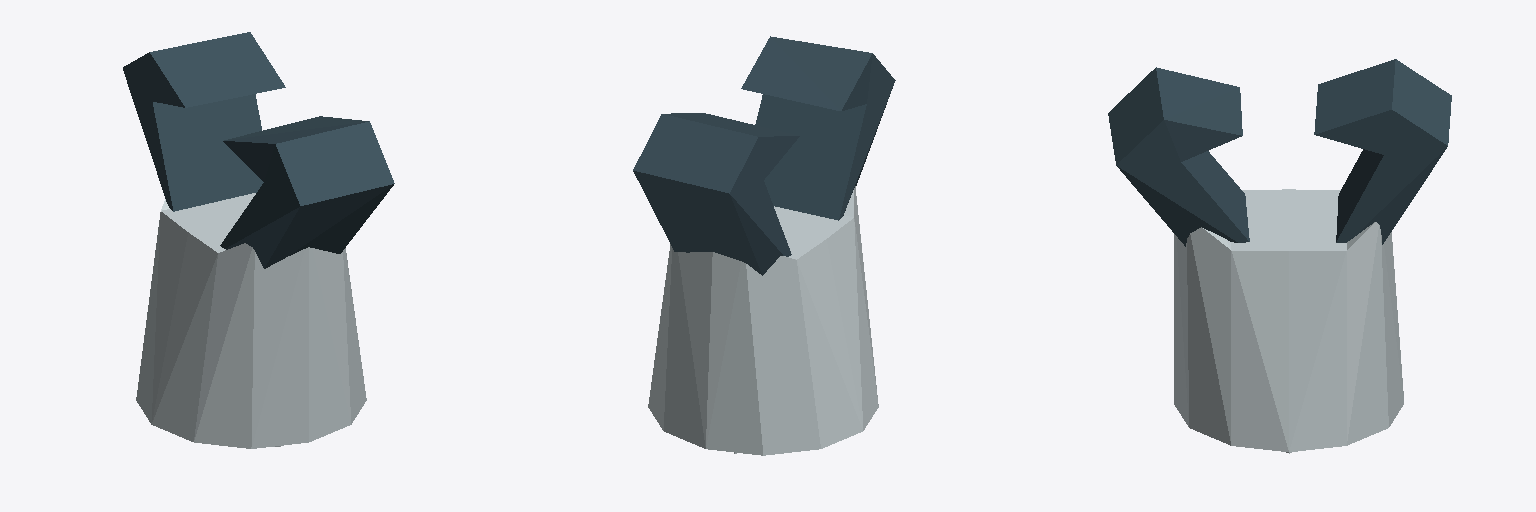
Rendered from model-triangulated.obj.
3 renders of one model, left to right at view 1: azimuth 30°, elevation 25°; view 2: azimuth 150°, elevation 25°; view 3: azimuth 270°, elevation 25°, orthographic.
Visible parts, largest first — view 1: group[number redacted], group[number redacted], group[number redacted]; view 2: group[number redacted], group[number redacted], group[number redacted]; view 3: group[number redacted], group[number redacted], group[number redacted].
Boxes of the visible parts, x1,y1,x2,y2 form: group[number redacted]: [136, 193, 366, 448]; group[number redacted]: [123, 32, 285, 211]; group[number redacted]: [220, 116, 394, 268]; group[number redacted]: [648, 186, 878, 455]; group[number redacted]: [741, 36, 895, 220]; group[number redacted]: [633, 113, 799, 275]; group[number redacted]: [1174, 189, 1403, 453]; group[number redacted]: [1108, 67, 1249, 246]; group[number redacted]: [1314, 59, 1451, 244].
Size of the model in its own units: 0.1631 by 0.2704 by 0.2431.